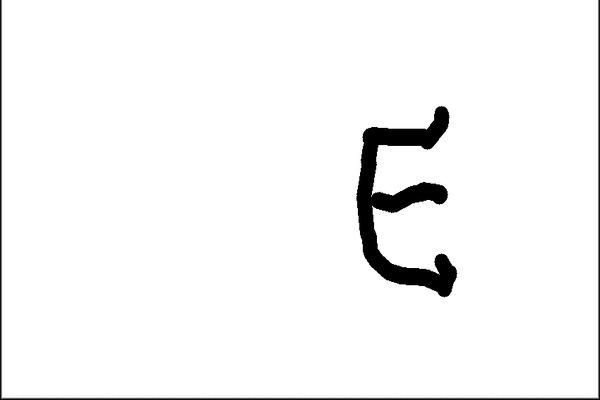E: (352, 102, 468, 299)
